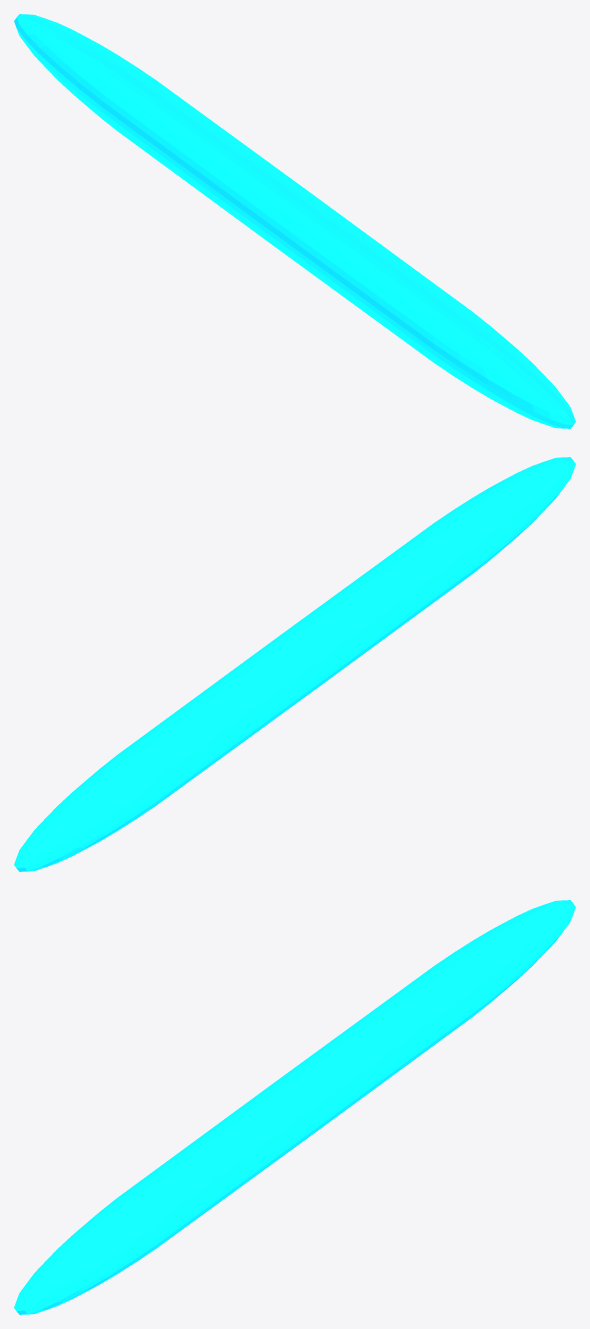
File: TirSnip.fbx
3 views of the same model, one above another, from view 1: azimuth 30°, elevation 25°; view 2: azimuth 150°, elevation 25°; view 3: azimuth 330°, elevation 25° (orthographic).
Visible parts, largest first — view 1: Snip; view 2: Snip; view 3: Snip.
Boxes of the visible parts, bbox=[...] form: Snip: bbox=[14, 14, 575, 428]; Snip: bbox=[14, 457, 575, 871]; Snip: bbox=[14, 900, 575, 1314].
Size of the model in its own units: 0.0434 by 0.7456 by 0.0434.
